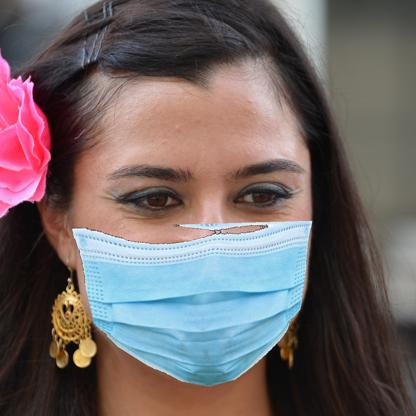mask: (65, 221, 314, 388)
